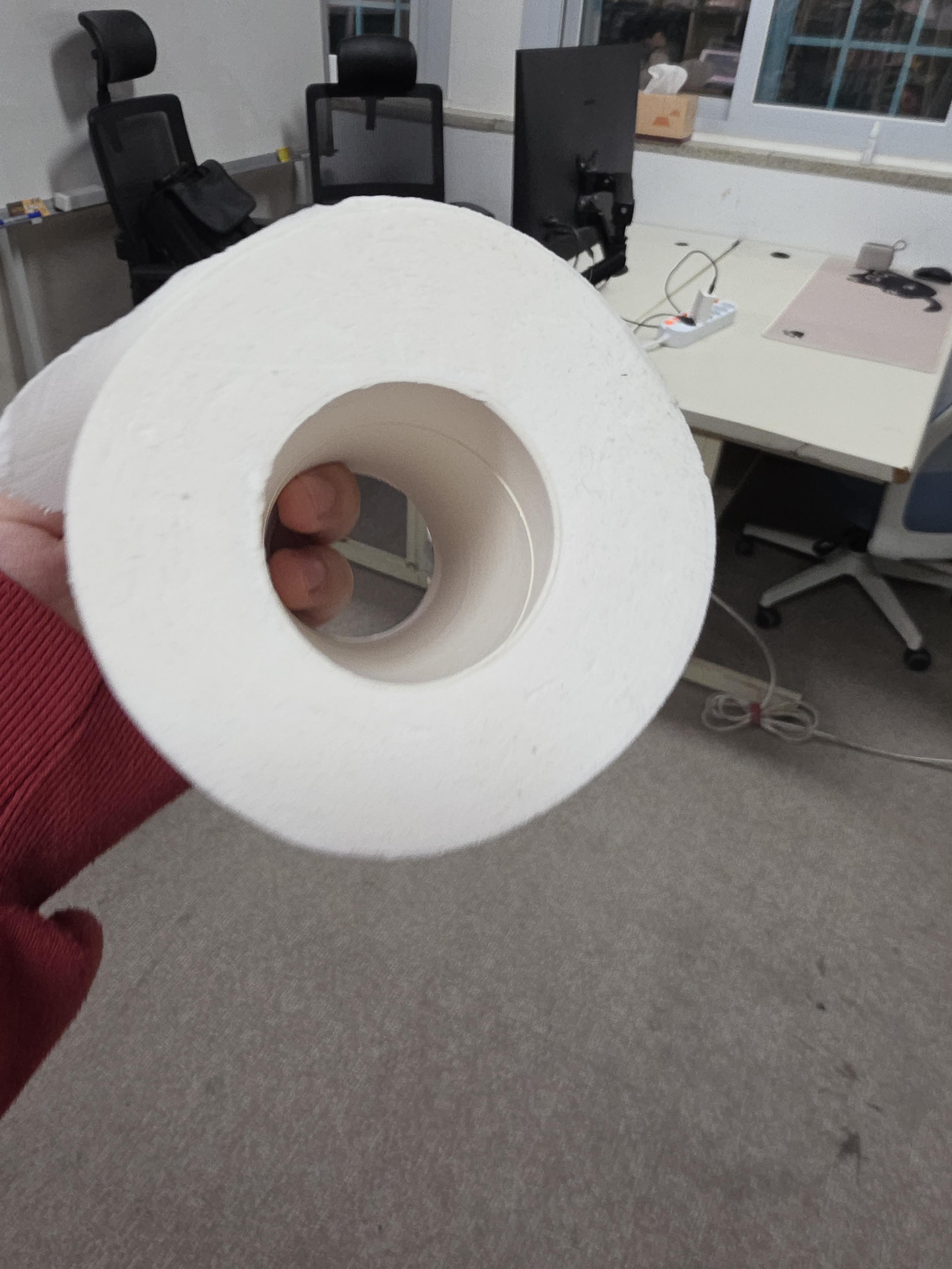tissue: (0, 194, 718, 860), (635, 62, 697, 142)
